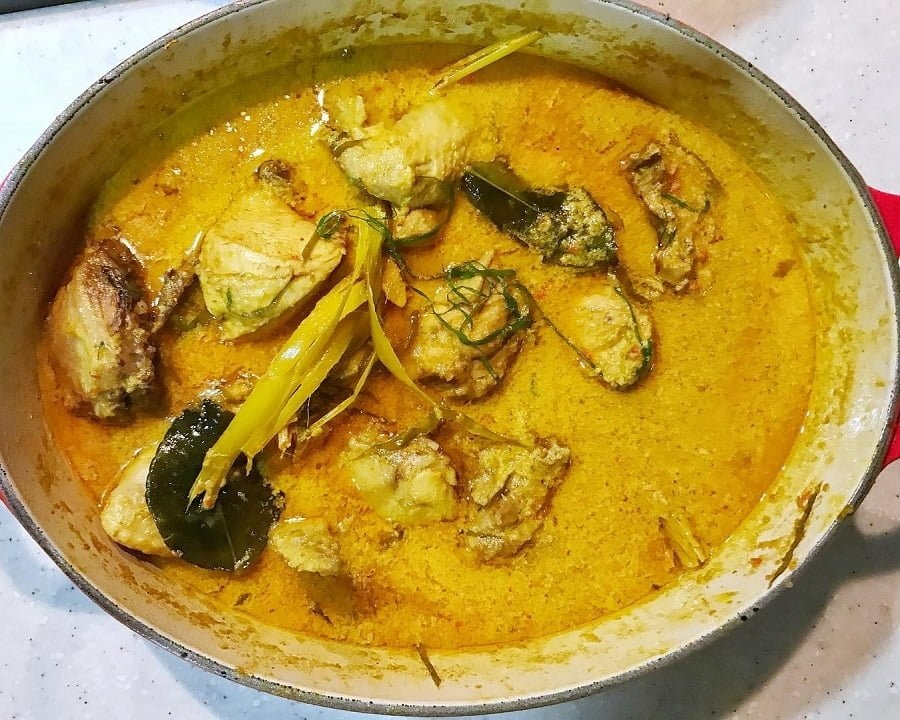gulai_ayam: (14, 11, 884, 692)
